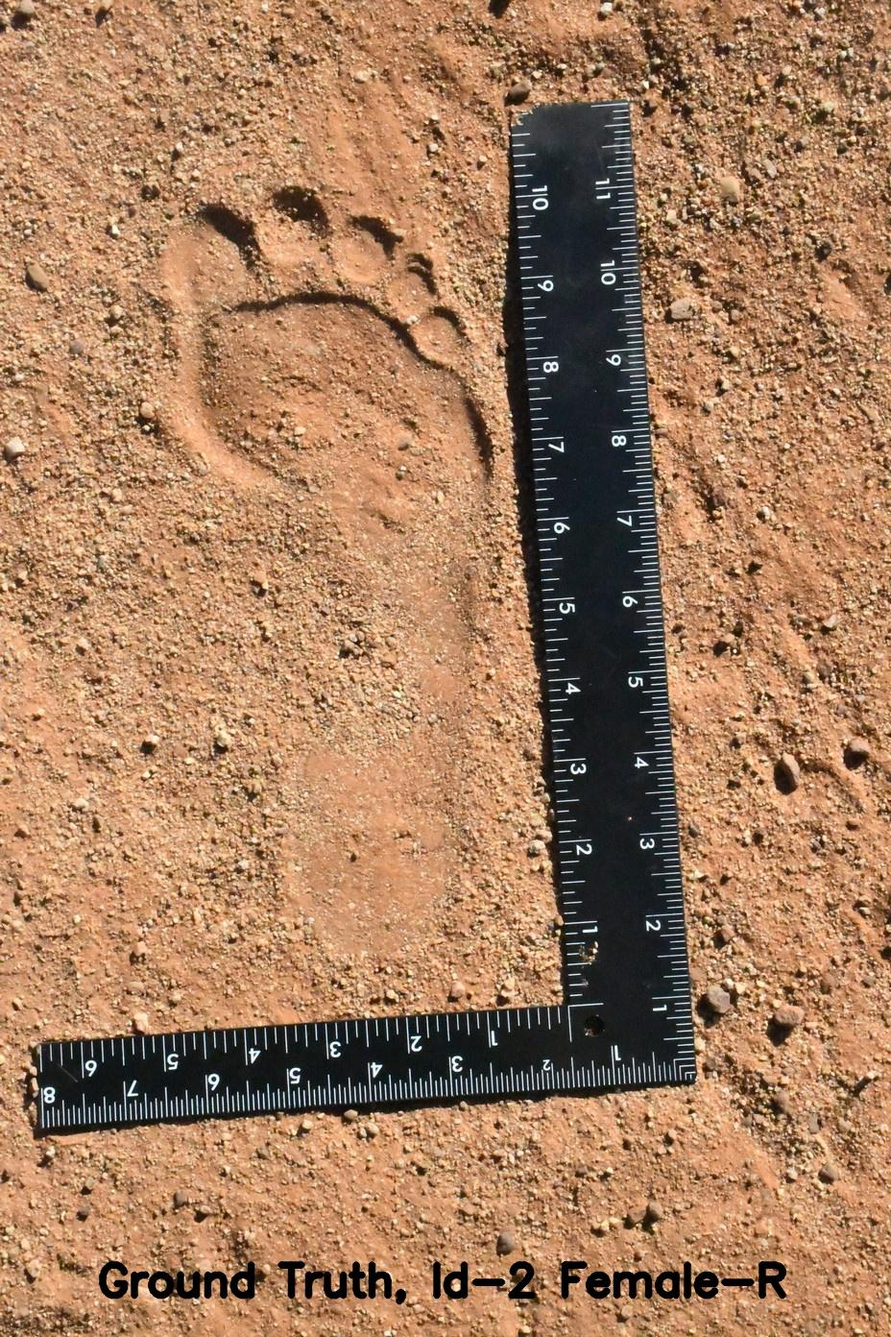human_footprint: (160, 170, 525, 957)
